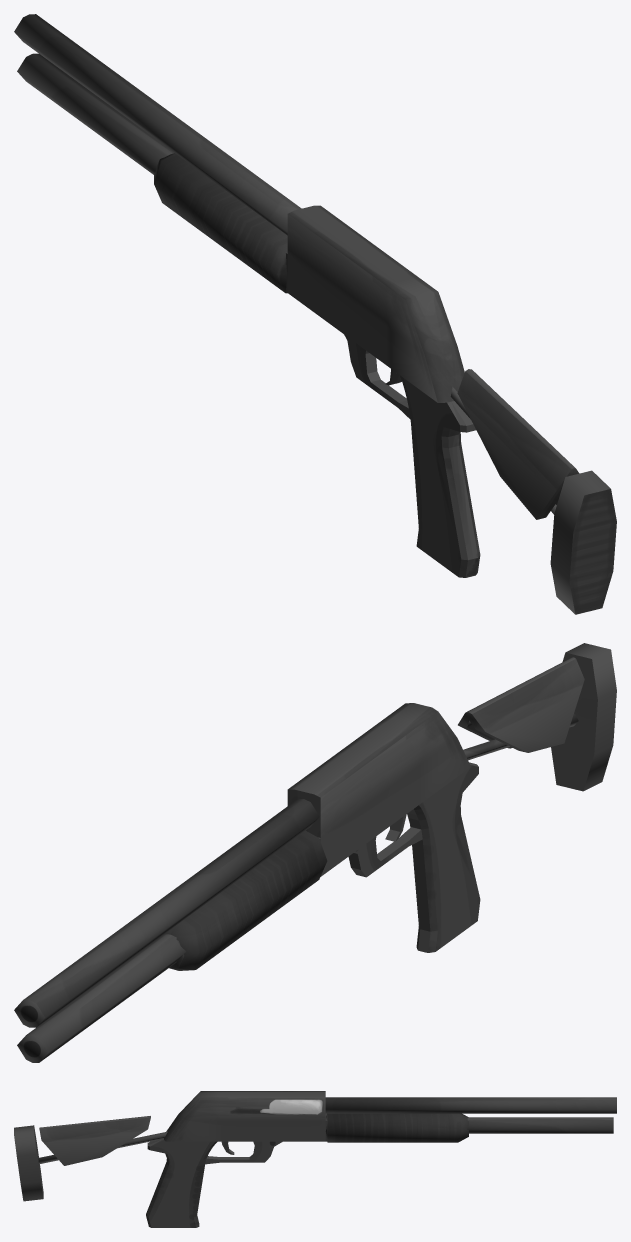
3 renders of one model, top to bottom at view 1: azimuth 30°, elevation 25°; view 2: azimuth 150°, elevation 25°; view 3: azimuth 270°, elevation 25°, orthographic. The views are drawn at different scales.
Visible parts, largest first — view 1: Box001; view 2: Box001; view 3: Box001.
Boxes of the visible parts, box(x1,y1,x2,y2) form: Box001: box(14, 14, 616, 614); Box001: box(14, 643, 616, 1062); Box001: box(14, 1091, 616, 1227).
Size of the model in its own units: 0.9458 by 4.44 by 18.52.
